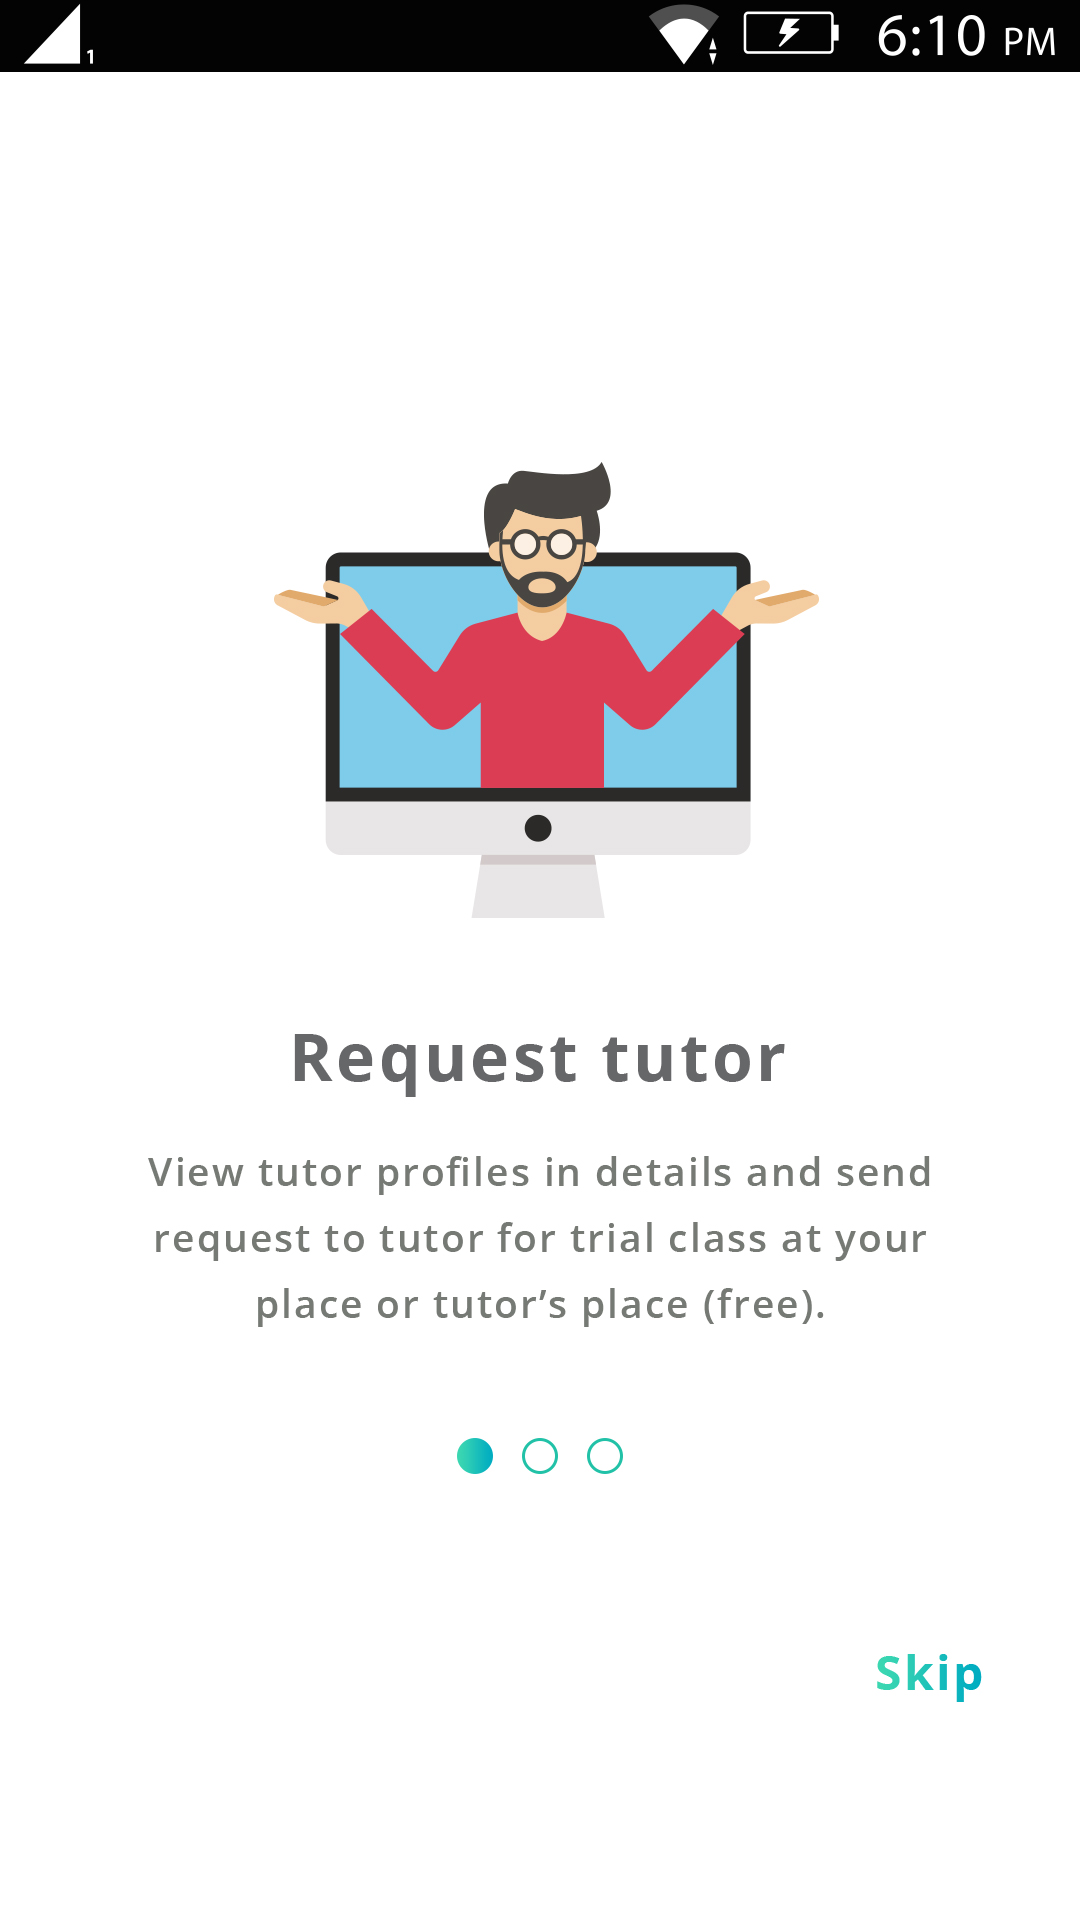Image: (274, 462, 820, 919)
PageIndicator: (456, 1436, 625, 1476)
Text: (146, 1155, 931, 1329), (294, 1033, 785, 1098), (876, 1654, 982, 1704)
UpperTaskBar: (1, 1, 1080, 73)
